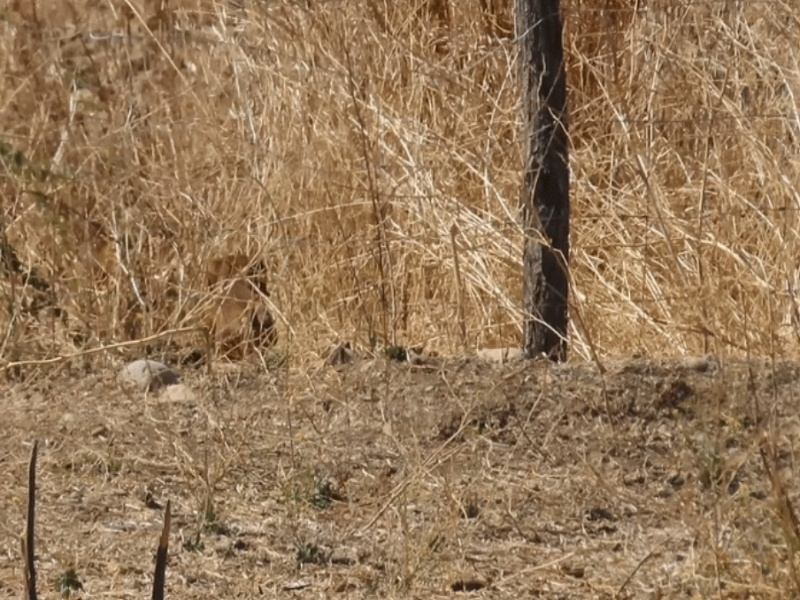dog: (176, 255, 279, 364)
